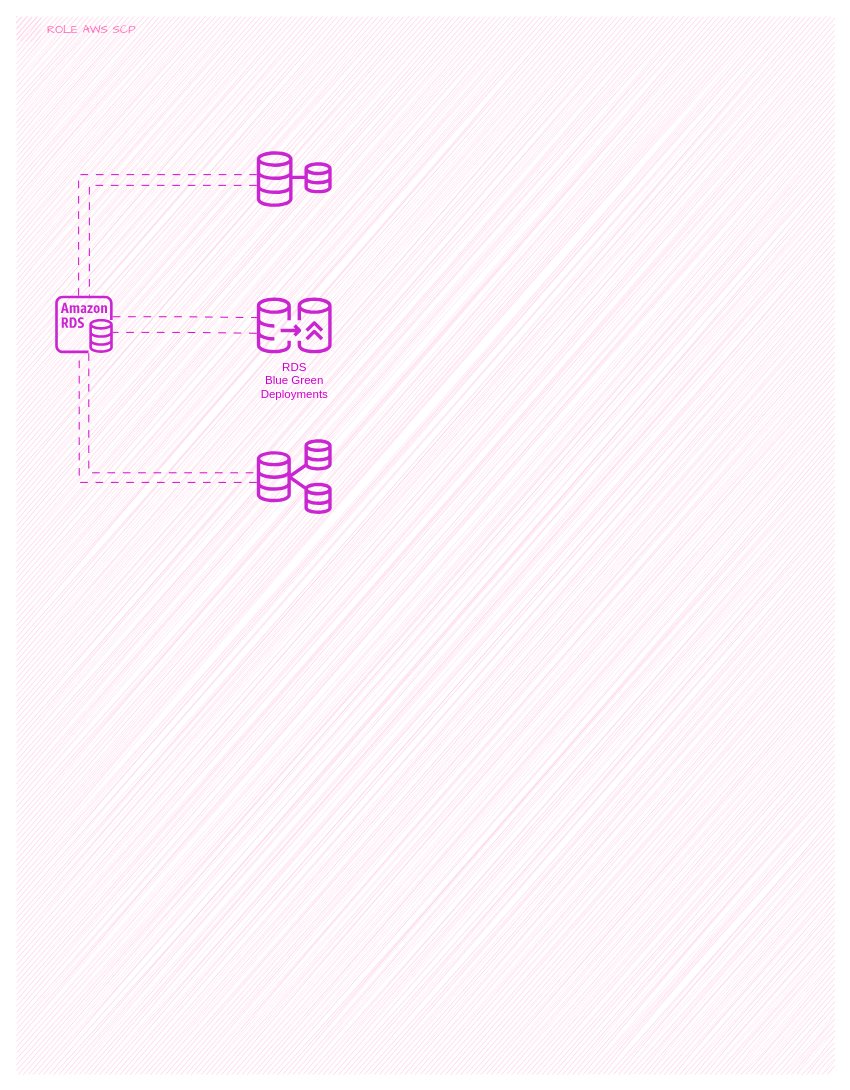
Image size: 850x1090. Some labels were removed from this diagram. Here are the shapes that lost their labels. From the top down, the box of each, then its label:
(256, 151, 331, 206): RDS Mult-AZ
(256, 439, 331, 514): RDS Mult-AZ BD CLUSTER
